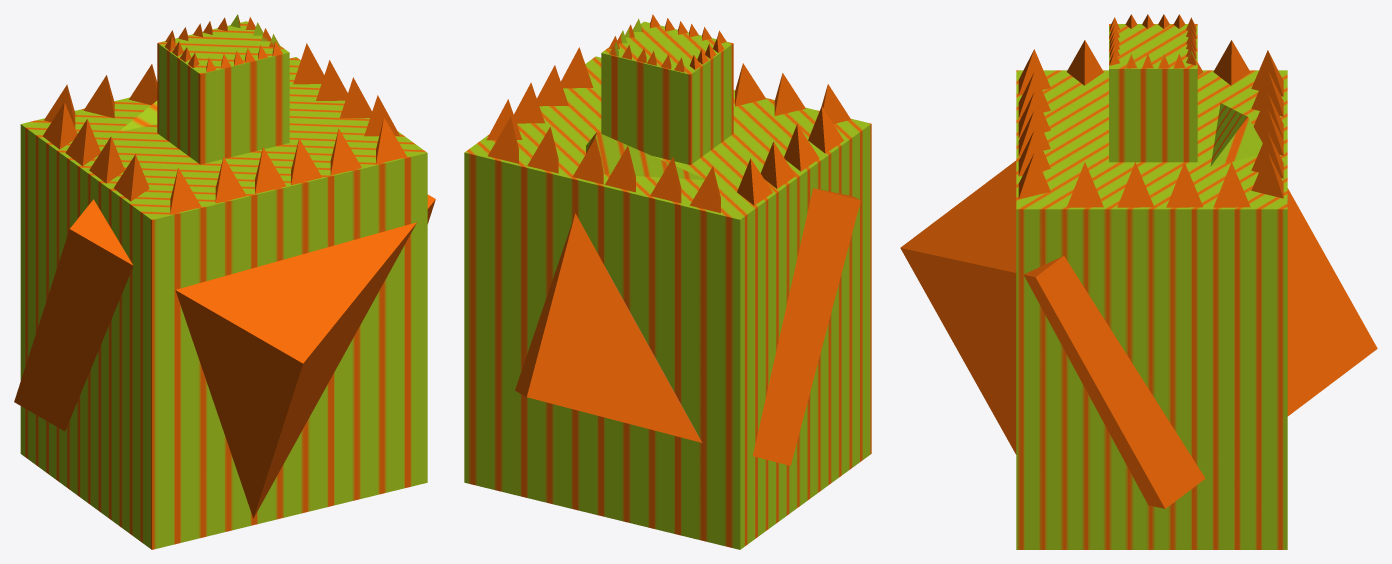
Rendered from obstaculo_desviar_1.fbx.
3 views of the same model, side by side, from view 1: azimuth 30°, elevation 25°; view 2: azimuth 150°, elevation 25°; view 3: azimuth 270°, elevation 25° (orthographic). The views are drawn at different scales.
Parts seen in each view (by area): view 1: Desviar 1; view 2: Desviar 1; view 3: Desviar 1.
Boxes of the visible parts, x1=… form: Desviar 1: x1=14, y1=14, x2=435, y2=549; Desviar 1: x1=464, y1=14, x2=871, y2=549; Desviar 1: x1=900, y1=14, x2=1377, y2=549.
Bounding box in the file's own units: 165 × 203 × 197.
